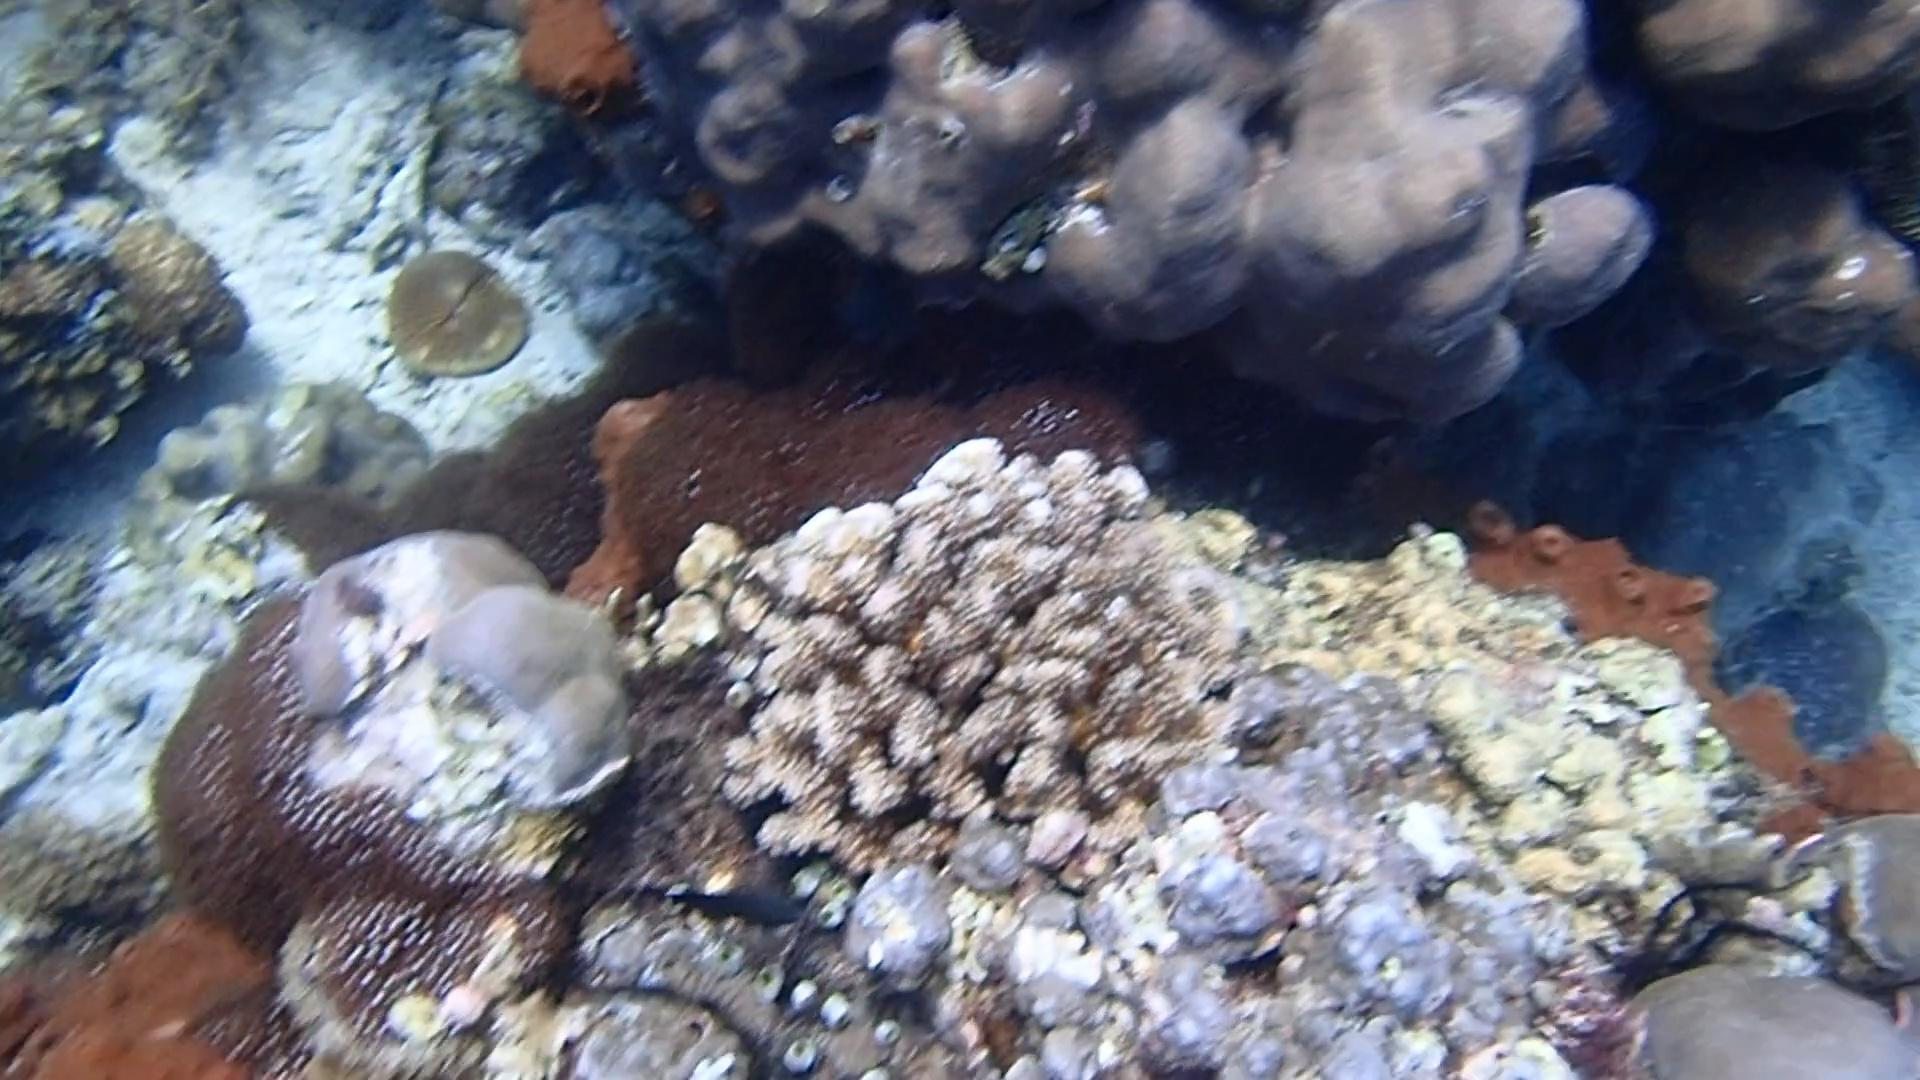Dark Fish: (655, 865, 820, 951)
